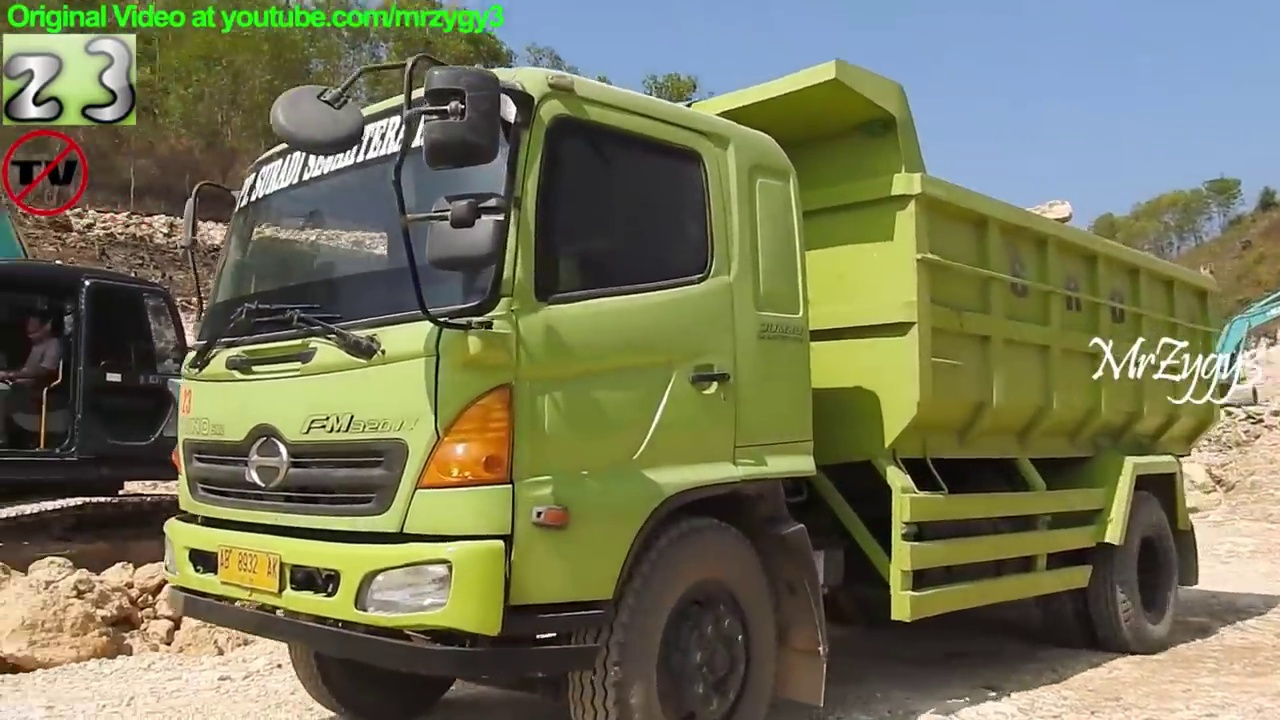excavator: (1, 102, 258, 614), (1160, 275, 1280, 413)
truck: (154, 51, 1220, 720)
